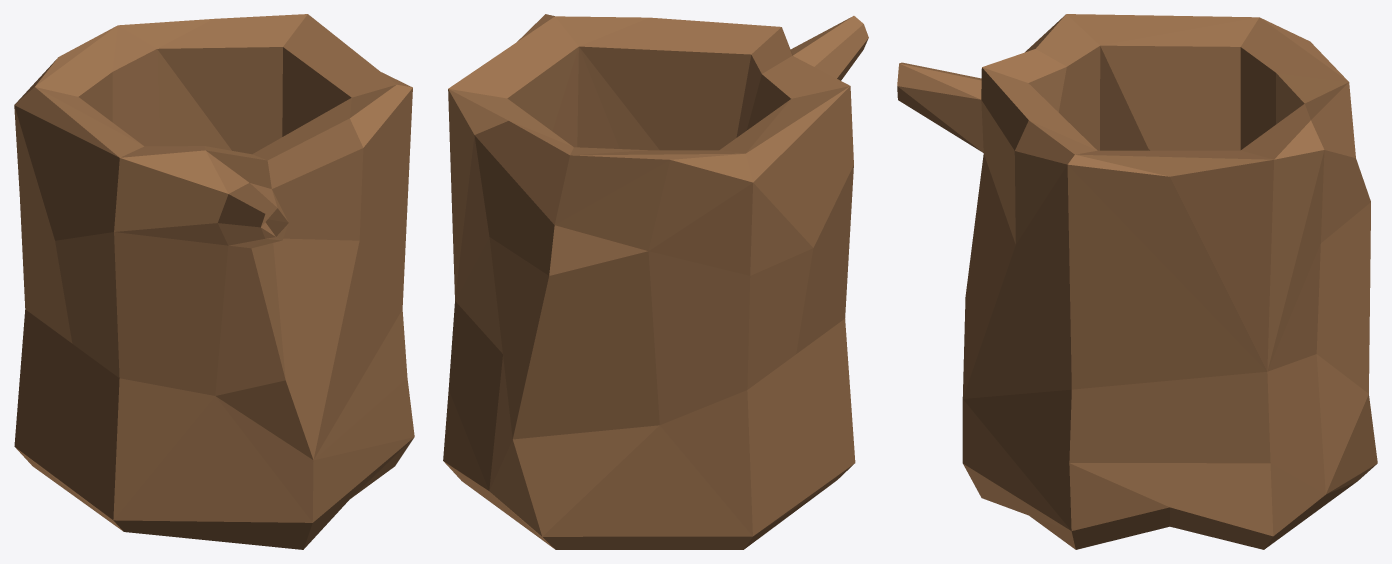
File: TreeStumb_1.fbx
3 views of the same model, side by side, from view 1: azimuth 30°, elevation 25°; view 2: azimuth 150°, elevation 25°; view 3: azimuth 270°, elevation 25° (orthographic). The views are drawn at different scales.
Parts seen in each view (by area): view 1: Cylinder.003; view 2: Cylinder.003; view 3: Cylinder.003.
Part boxes in pixels (box(x1,y1,x2,y2)): Cylinder.003: box(14, 14, 414, 549); Cylinder.003: box(443, 14, 868, 549); Cylinder.003: box(897, 14, 1377, 549).
Bounding box in the file's own units: 48.01 × 57.2 × 60.27.
